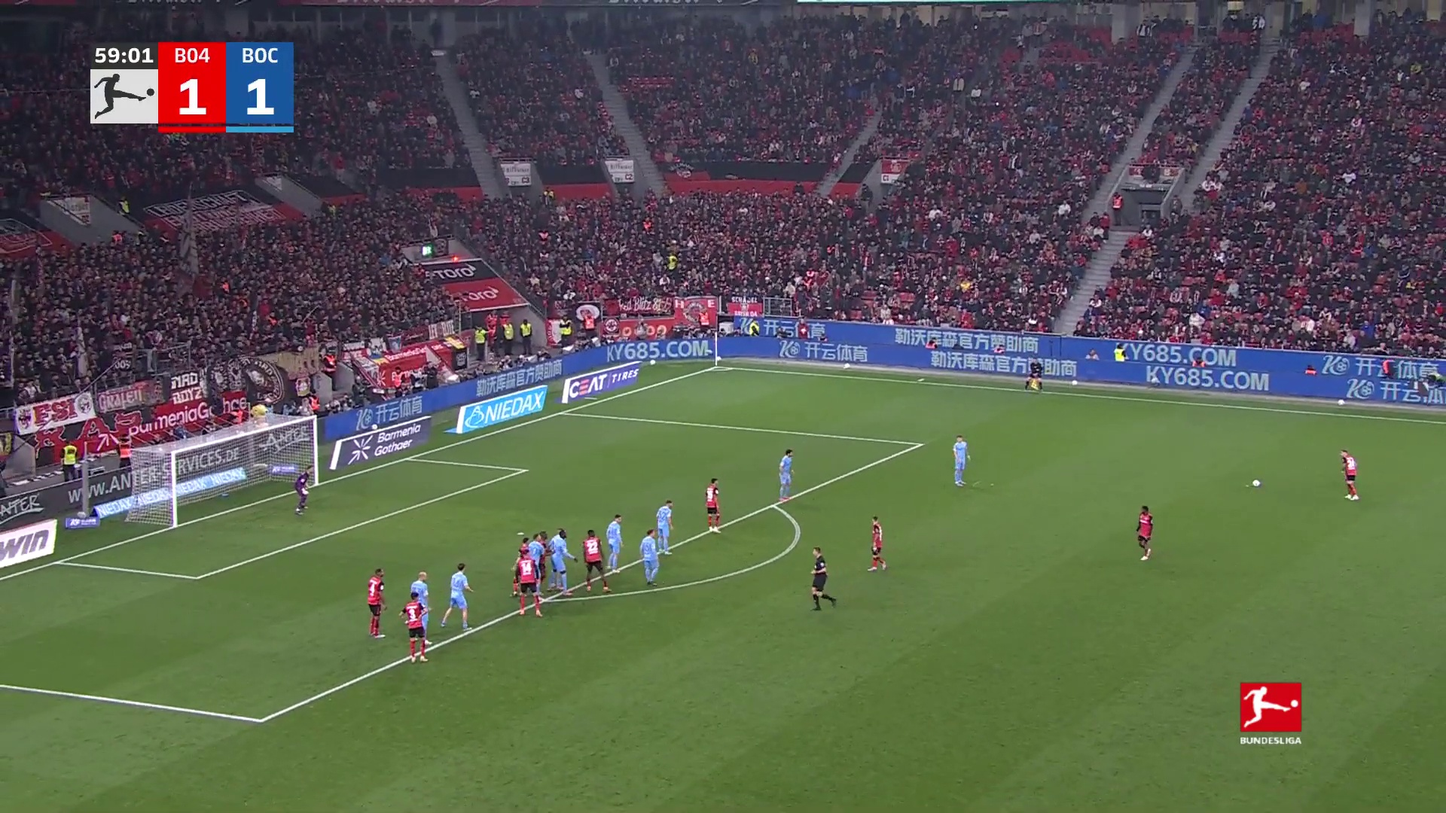ball: (1250, 478, 1263, 490)
player: (439, 562, 476, 631), (399, 592, 432, 663), (807, 547, 840, 614), (513, 550, 544, 617), (579, 528, 610, 594), (363, 566, 390, 640), (551, 529, 576, 592), (404, 570, 433, 622), (1132, 503, 1157, 562), (865, 514, 890, 573), (637, 527, 662, 586), (604, 513, 627, 572), (527, 532, 547, 598), (1338, 448, 1362, 502), (702, 477, 725, 533), (654, 499, 677, 554), (950, 434, 973, 488), (776, 448, 798, 502), (291, 466, 314, 516), (511, 537, 529, 599), (537, 529, 553, 591)
referee: (806, 546, 840, 614), (1023, 355, 1046, 395)
